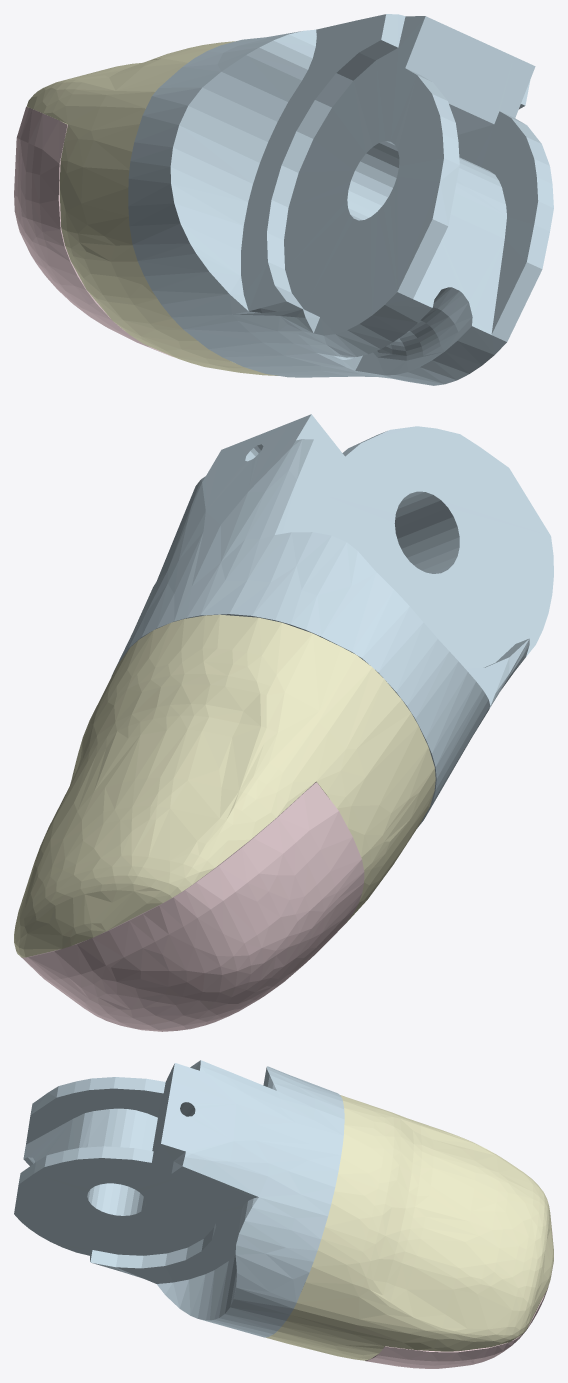
File: i02_leftHand_ringFingerTip_visual.obj.light.glb
3 renders of one model, top to bottom at view 1: azimuth 30°, elevation 25°; view 2: azimuth 150°, elevation 25°; view 3: azimuth 270°, elevation 25°, orthographic. The views are drawn at different scales.
Bounding box in the file's own units: 0.1602 × 0.2071 × 0.326.
